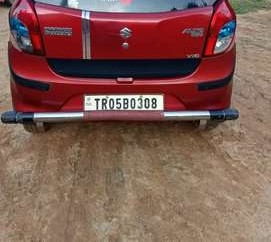TR05B0308: (83, 94, 163, 110)
